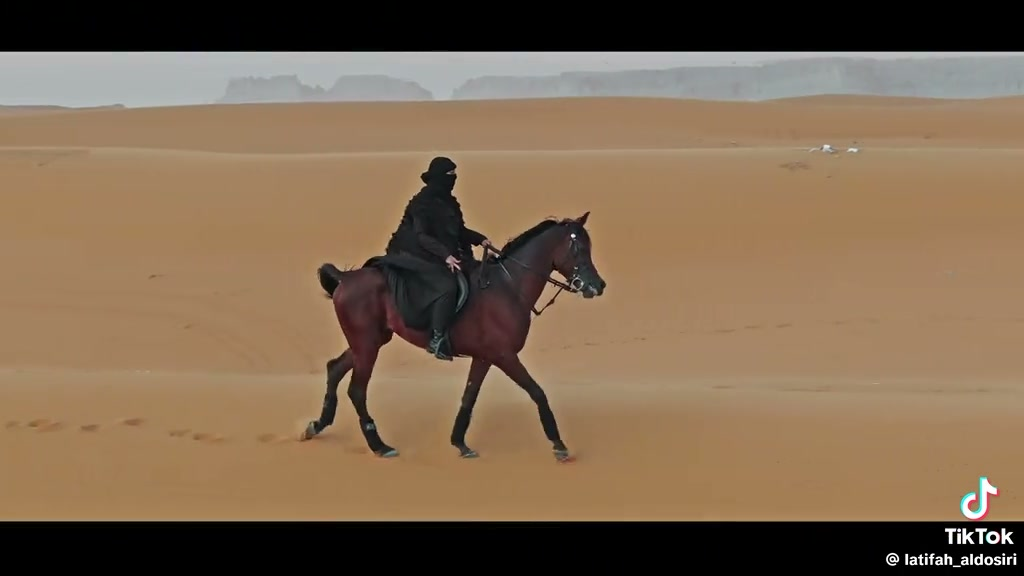animal_foot_print: (450, 212, 606, 461), (386, 156, 492, 359), (3, 416, 148, 434), (167, 428, 227, 443), (28, 418, 63, 431), (190, 432, 226, 443), (256, 433, 293, 443), (117, 417, 145, 426), (168, 428, 190, 437), (79, 424, 100, 432)
